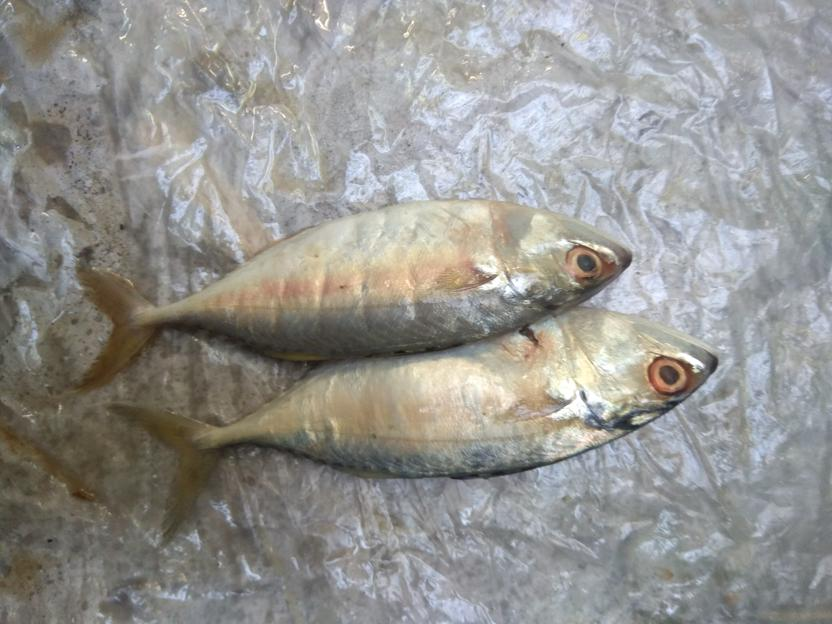Fish head: (560, 306, 719, 460), (494, 199, 633, 331)
Fish tail: (100, 401, 228, 550), (72, 257, 166, 393)
